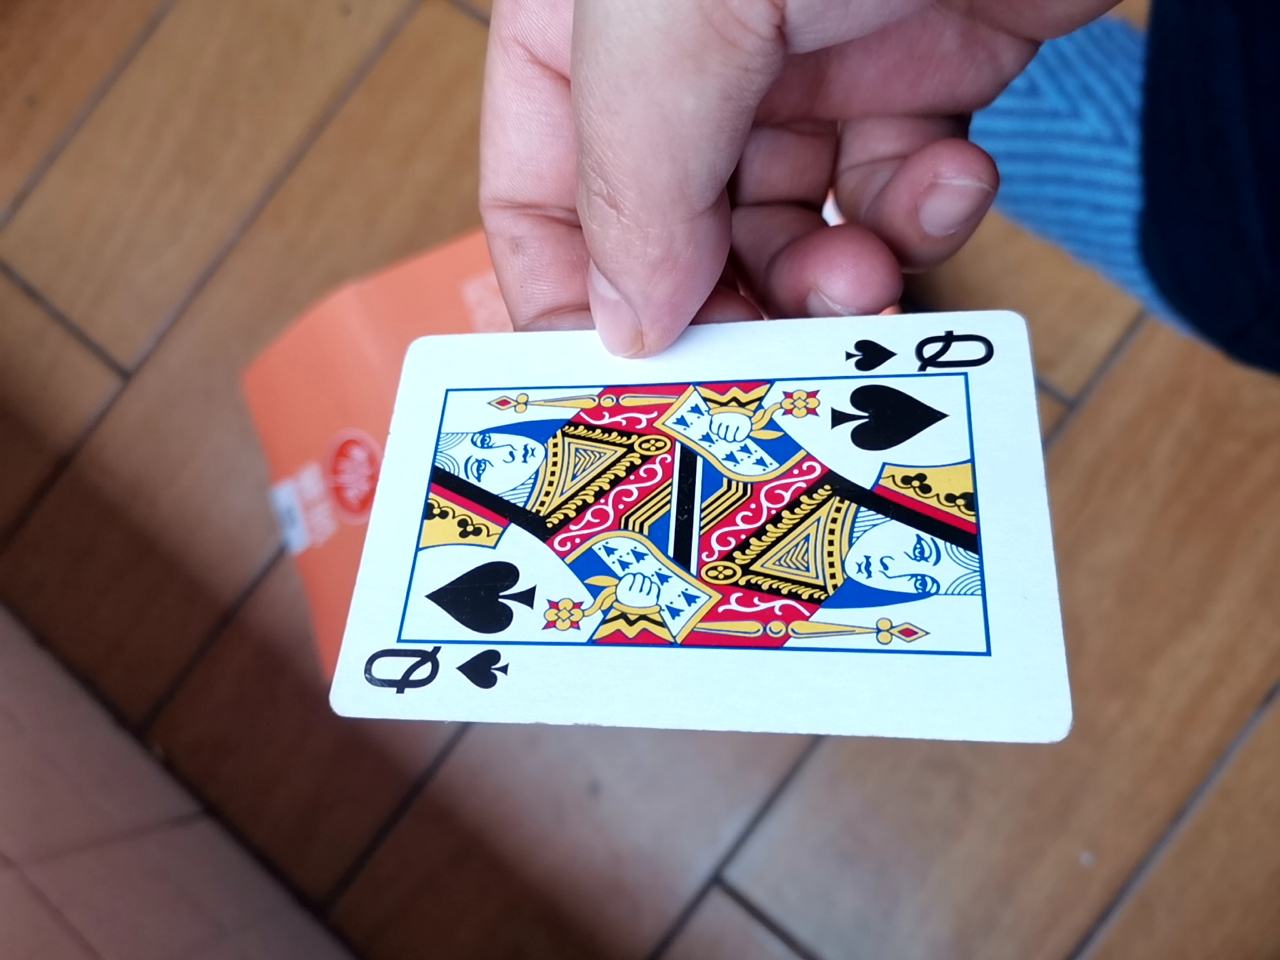ht q: (308, 295, 1072, 751)
